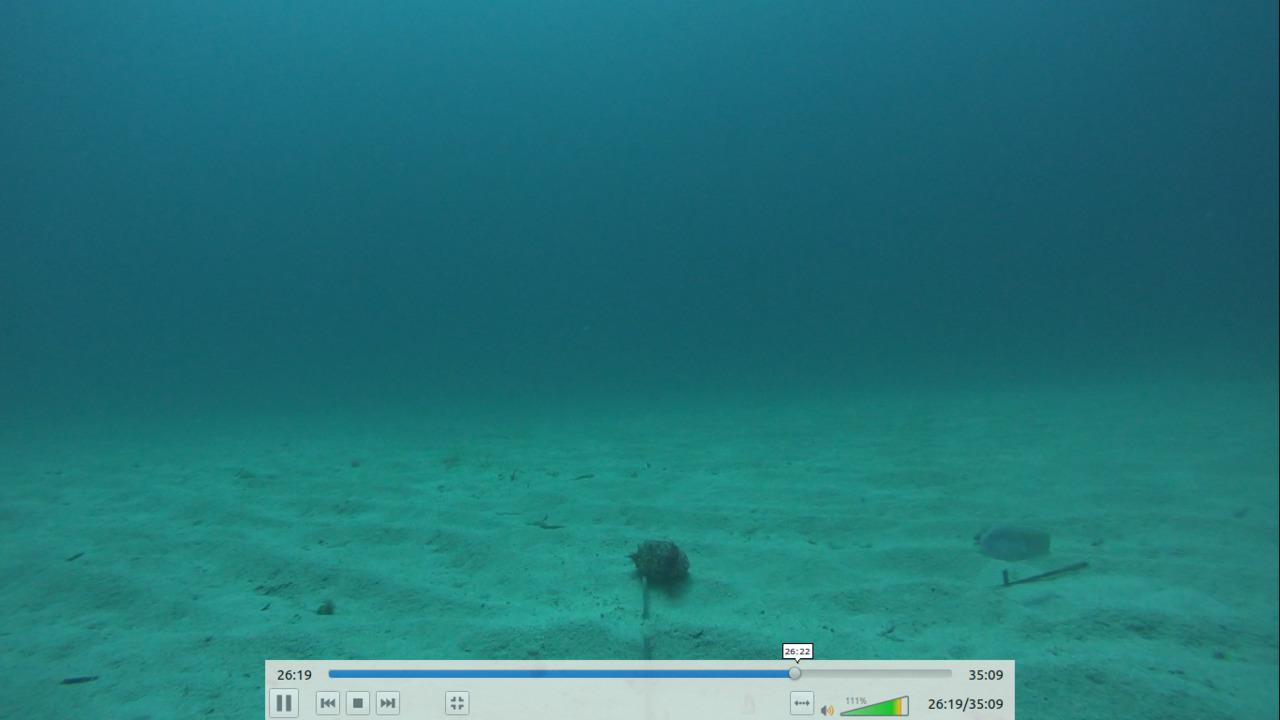raor: (963, 518, 1058, 566)
